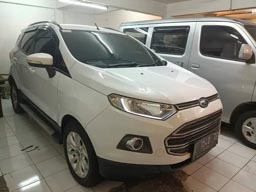plat: (194, 130, 224, 162)
